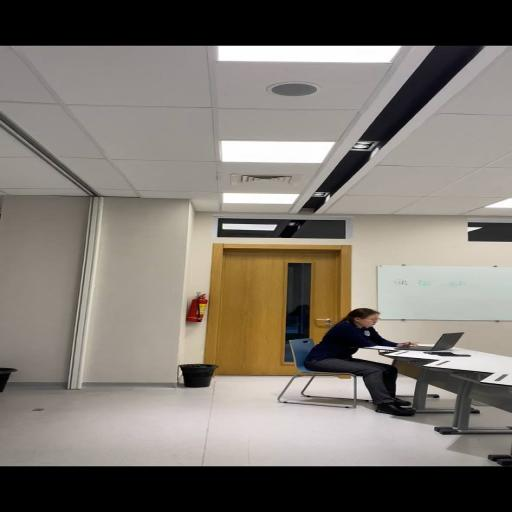bus: (278, 339, 370, 408)
corridor: (215, 246, 343, 375)
glass_wall: (402, 333, 464, 351)
traffic_light: (179, 364, 217, 387)
